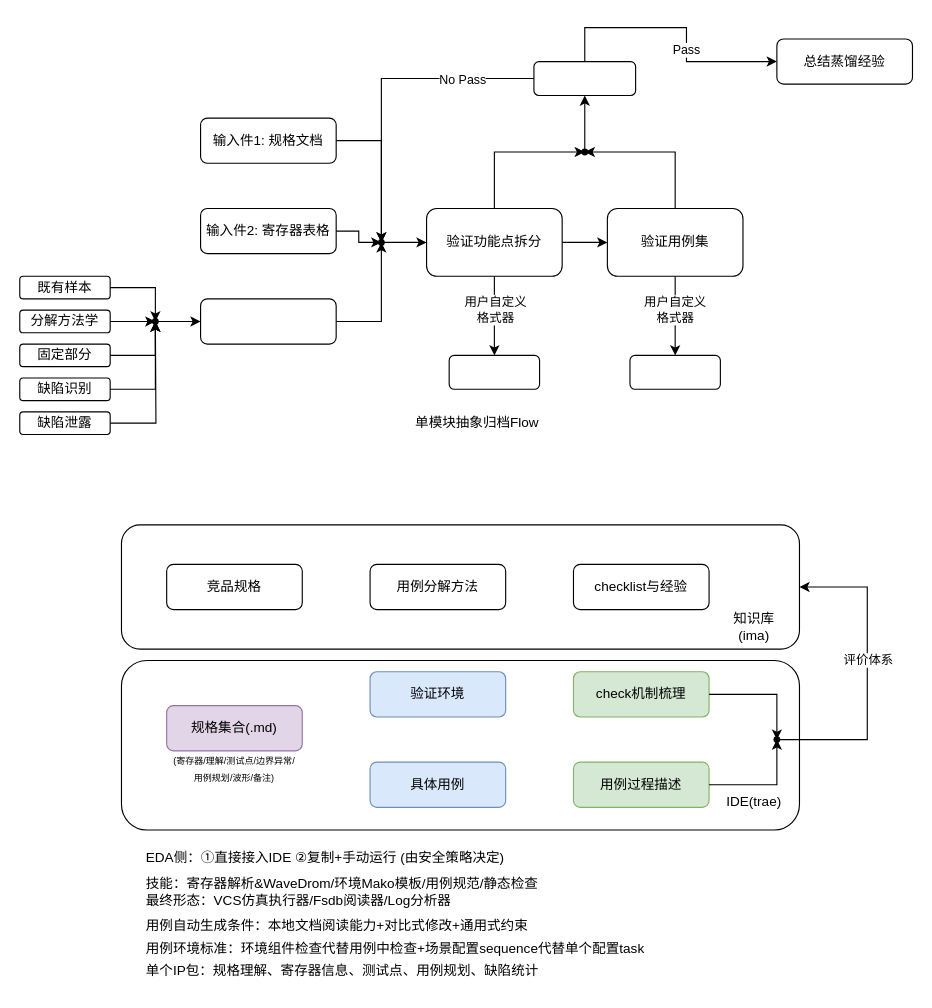
This 932x1008 diagram has some shape labels left out. The shapes that lost their labels are listed below. From the top down, each one's centre as x and y in pixels, then its label:
the point at 584,77: 反标与checklist 用户评价体系
the point at 267,321: 内置的分解经验方法
the point at 494,371: 功能点列表
the point at 674,371: 用例列表
